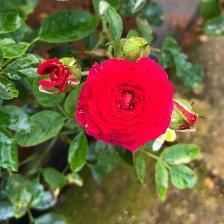rose: (76, 55, 177, 154)
